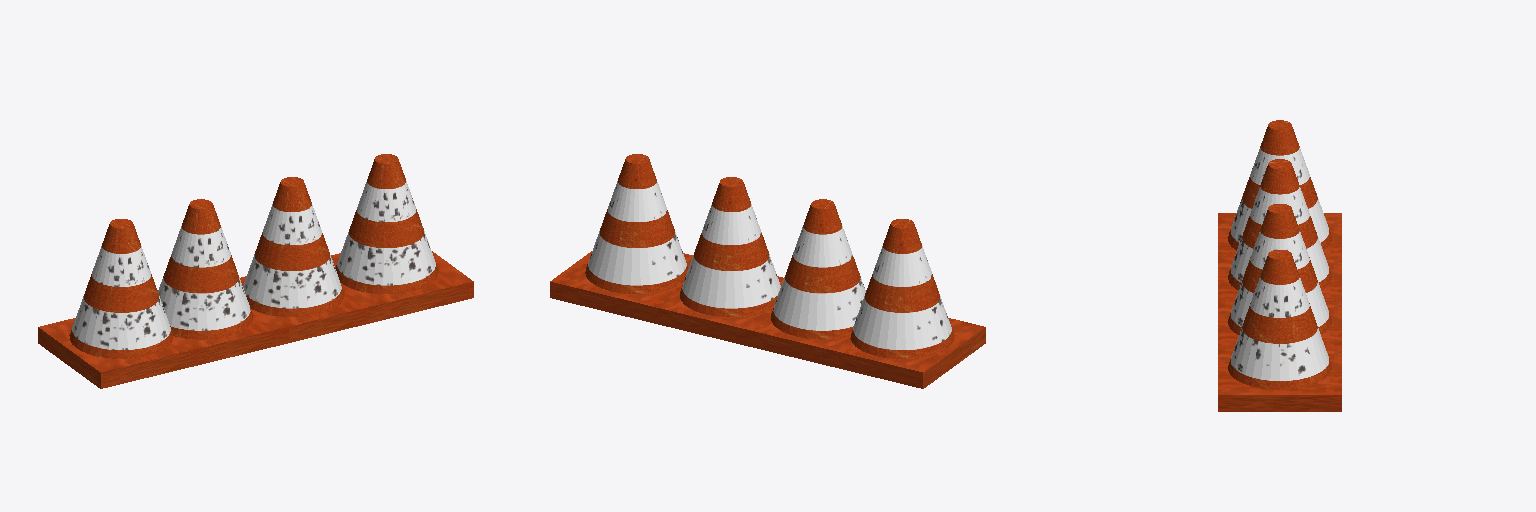
3 renders of one model, left to right at view 1: azimuth 30°, elevation 25°; view 2: azimuth 150°, elevation 25°; view 3: azimuth 270°, elevation 25°, orthographic.
Parts seen in each view (by area): view 1: Cylinder, Cylinder.003, Cylinder.002, Cylinder.001; view 2: Cylinder, Cylinder.003, Cylinder.002, Cylinder.001; view 3: Cylinder.003, Cylinder.002, Cylinder.001, Cylinder.
Part boxes in pixels (x1,y1,x2,y2): Cylinder: (38,219,208,388); Cylinder.003: (331,154,473,323); Cylinder.002: (240,177,379,346); Cylinder.001: (158,199,288,367); Cylinder: (815,219,985,388); Cylinder.003: (550,154,692,323); Cylinder.002: (644,177,783,346); Cylinder.001: (735,199,865,368); Cylinder.003: (1218,250,1341,411); Cylinder.002: (1218,204,1341,348); Cylinder.001: (1218,159,1341,303); Cylinder: (1218,120,1341,261).
Bounding box in the file's own units: 3.81 × 1.27 × 1.11.
Materials: 8 (1 with a texture image).